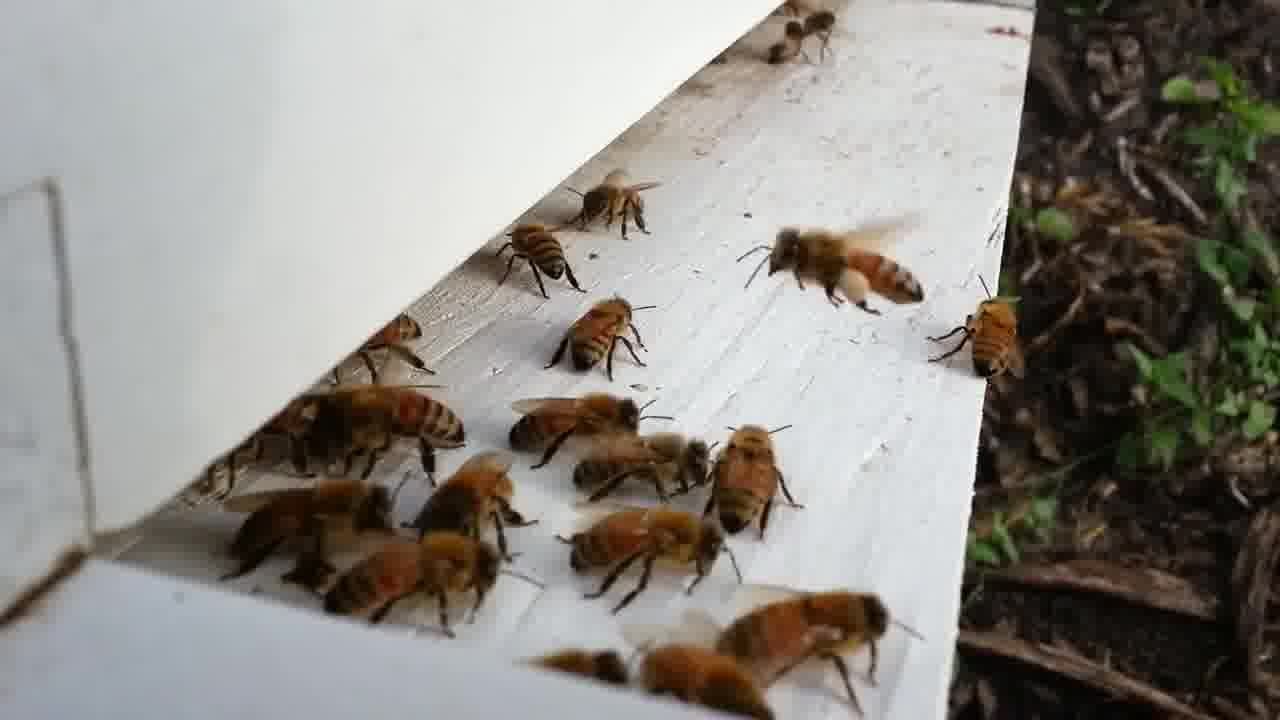pollen: (738, 223, 931, 311)
